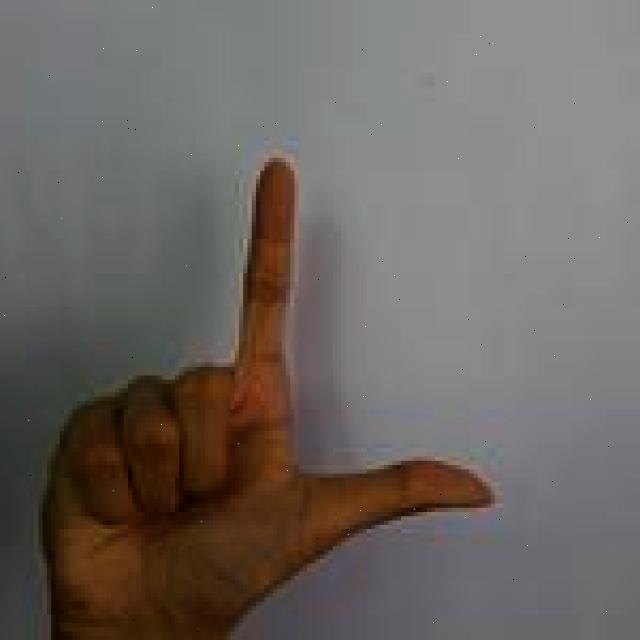L: (35, 148, 502, 640)
